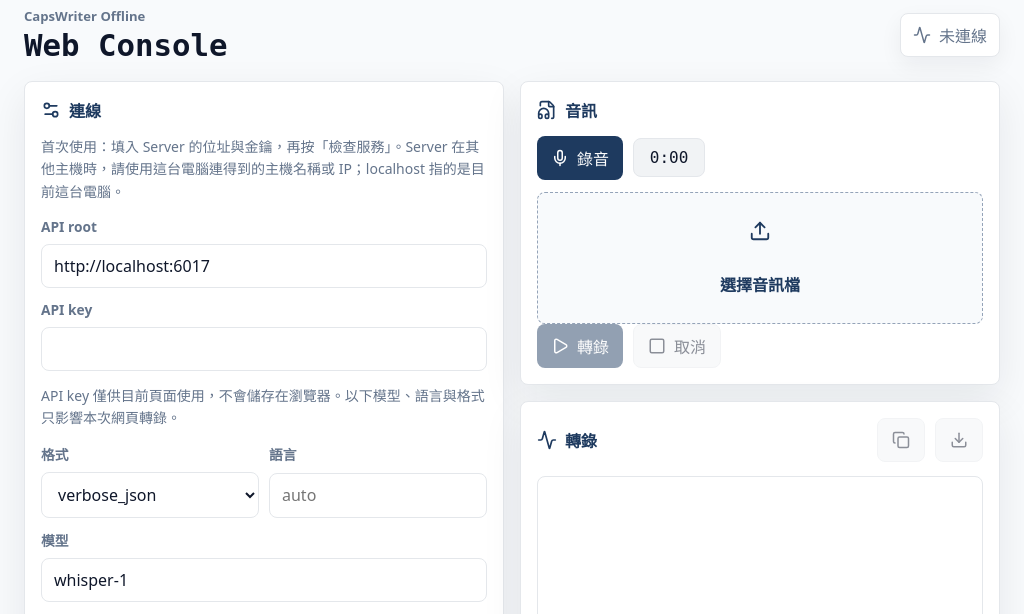
Test: App › redacts a peer-reflected API key before rendering diagnostic errors
Type "sk-render-reflection-secret" into the password field labelled "API key" at (264, 349), box [41, 327, 487, 371]
(page scrolled)
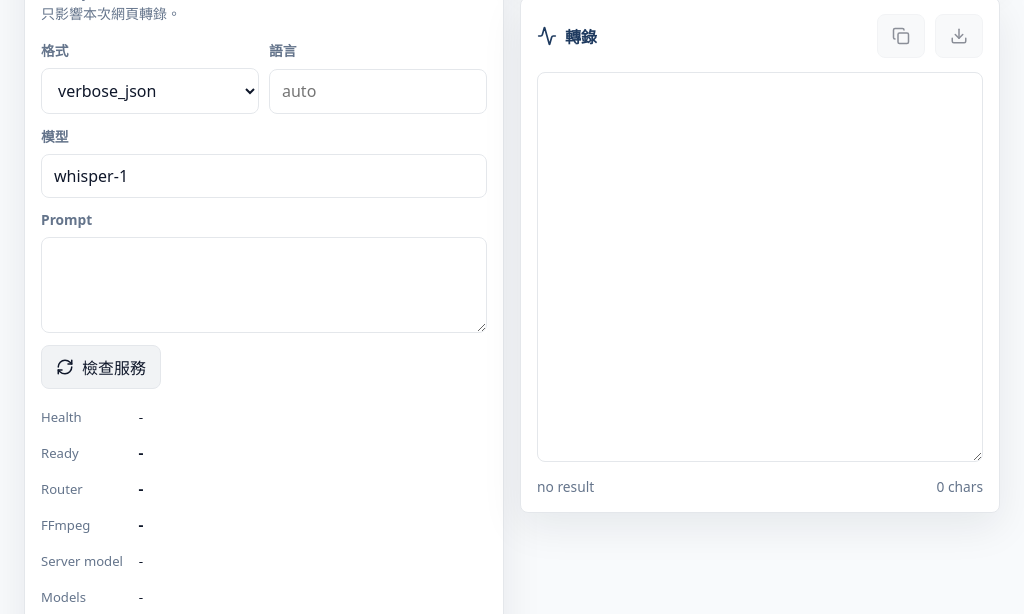
Click the button "檢查服務" at (101, 367), box [41, 345, 161, 389]
(page scrolled)
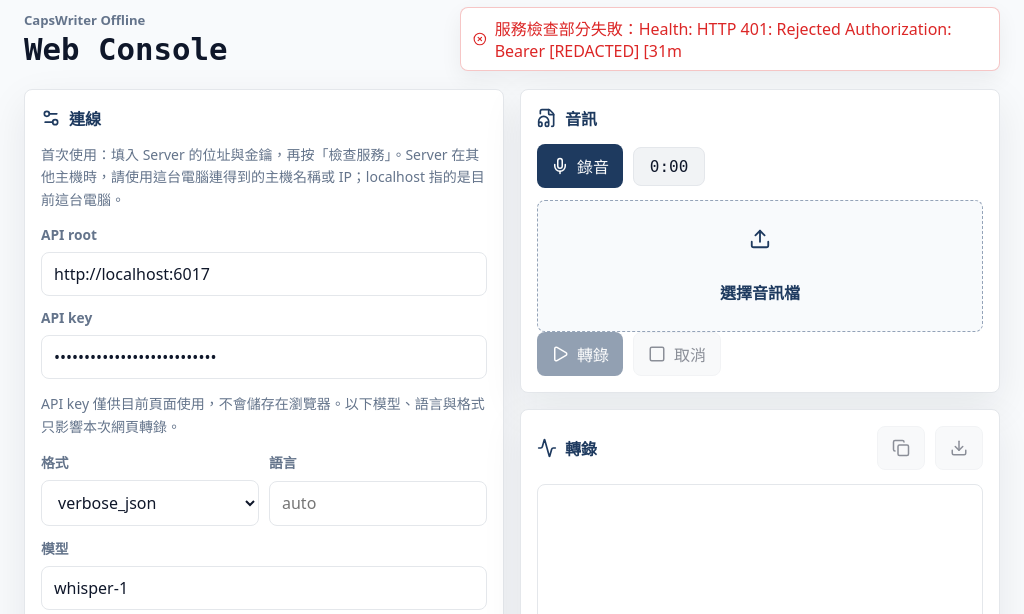
Now the text "服務檢查部分失敗" shows "Bearer [REDACTED]", box [495, 18, 952, 62]
